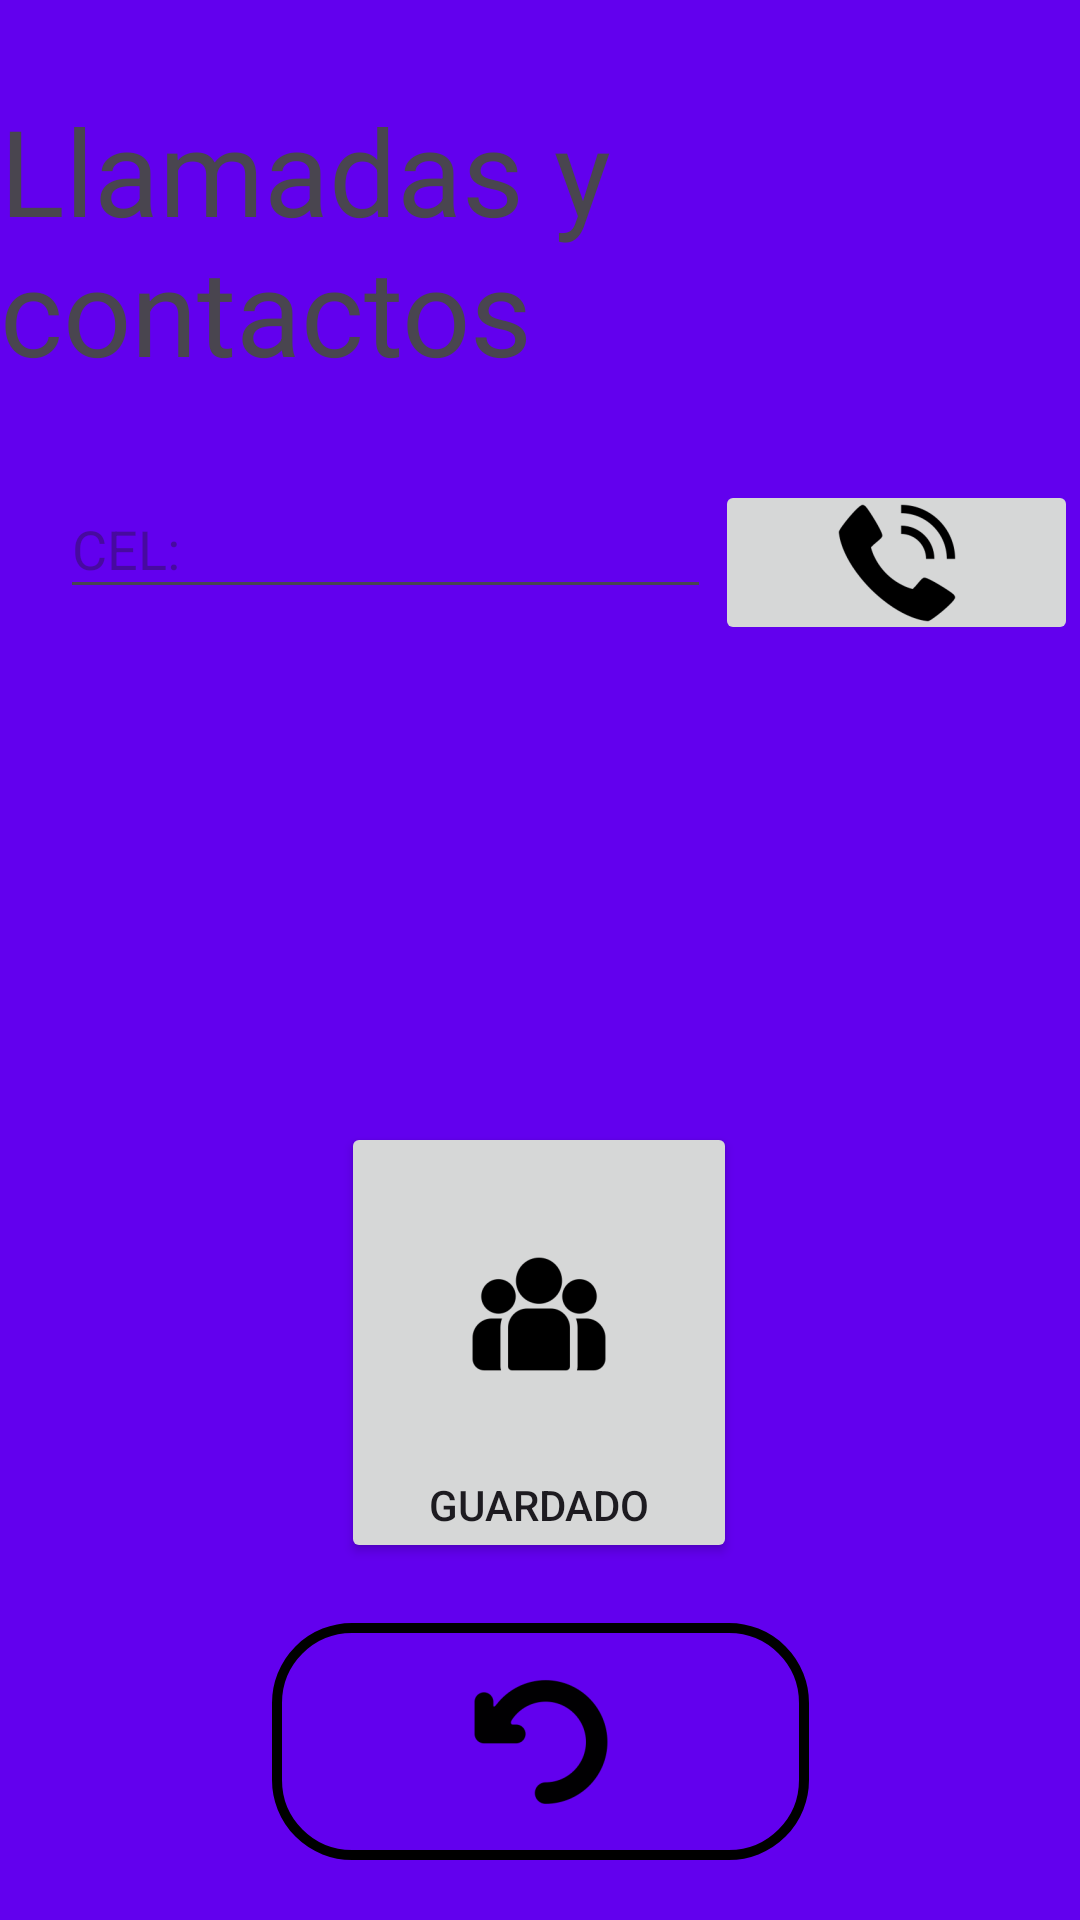

Icon click points for this 1080w x 1920h phone screenshot, format [x,y]:
calling: [896,562]
